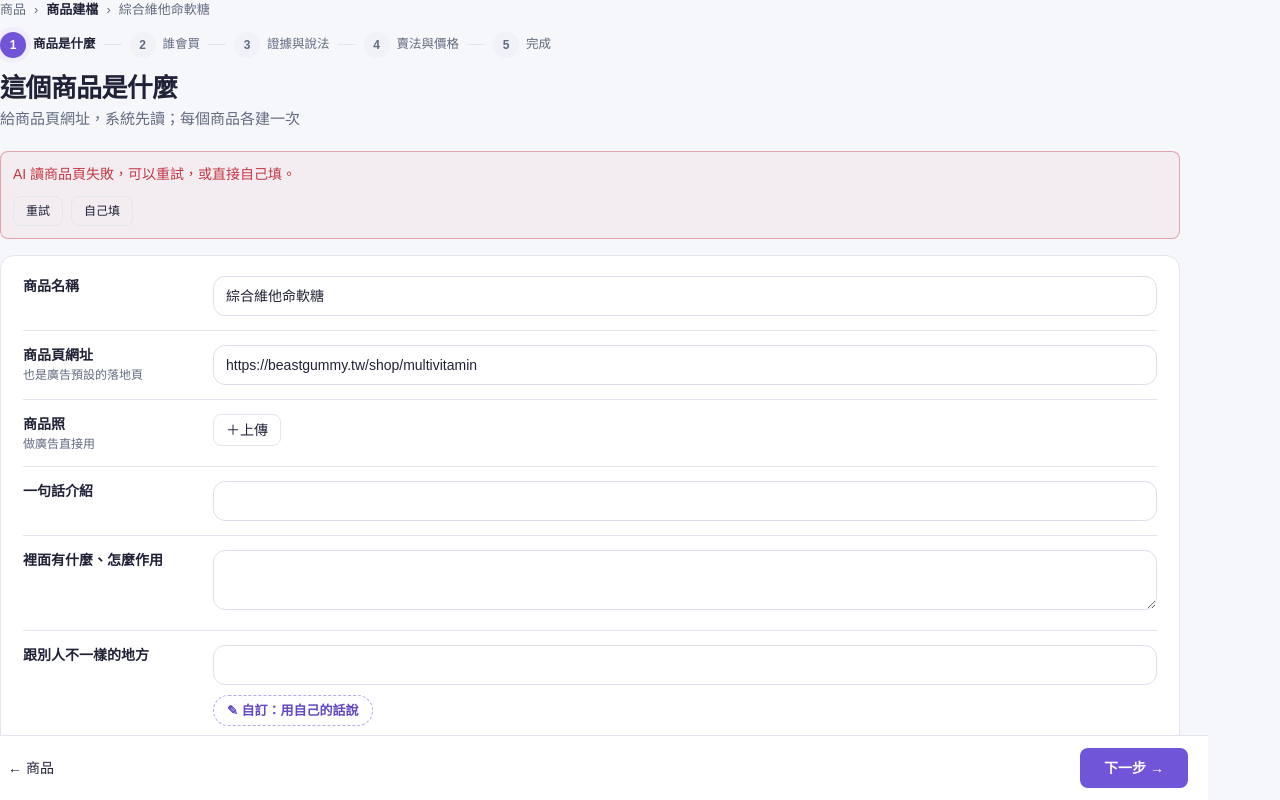
Test case: ProductOnboarding › 「自己填」收起失敗列，只留表單
The width and height of the screenshot is (1280, 800).
Click the button "自己填" at (102, 210), box left=71, top=196, right=133, bottom=226
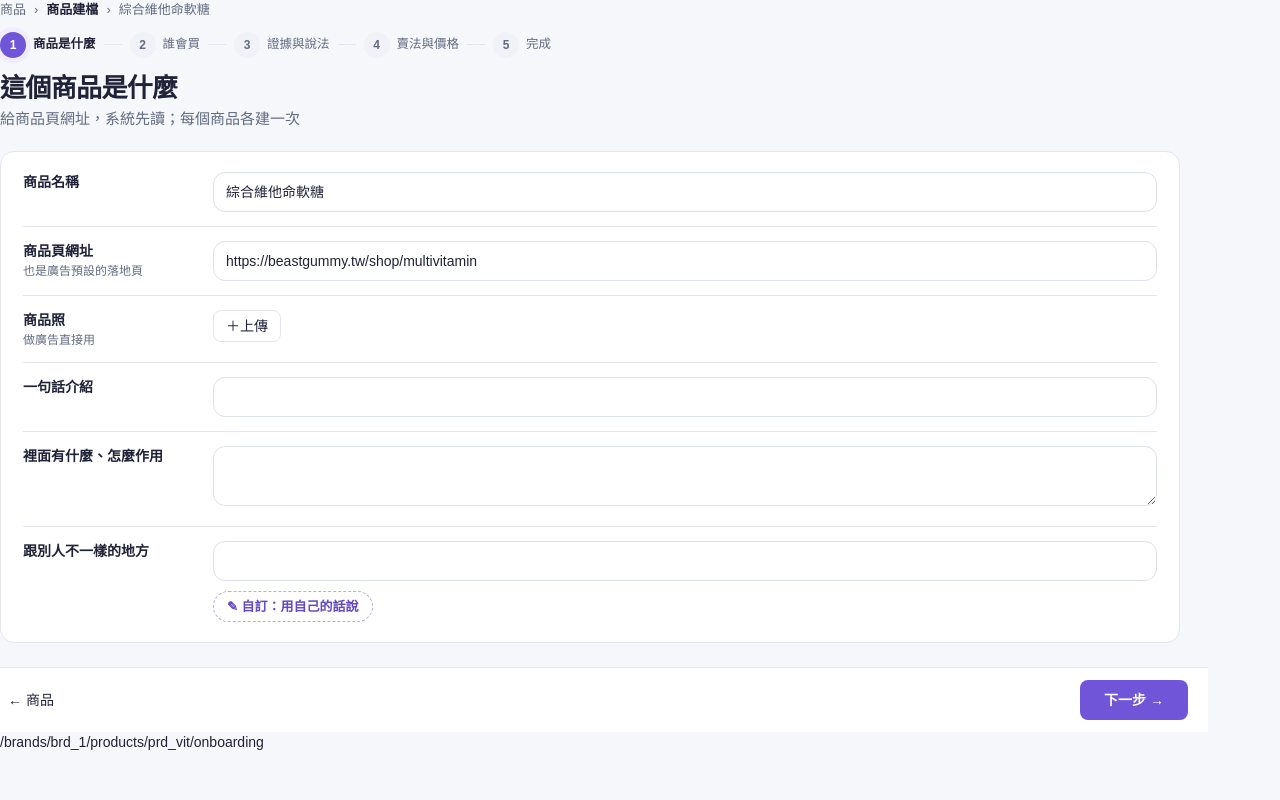
Expected: the field labelled "商品名稱" is shown, left=213, top=172, right=1157, bottom=212
Result: the message "AI 讀商品頁失敗，可以重試，或直接自己填。" is gone
